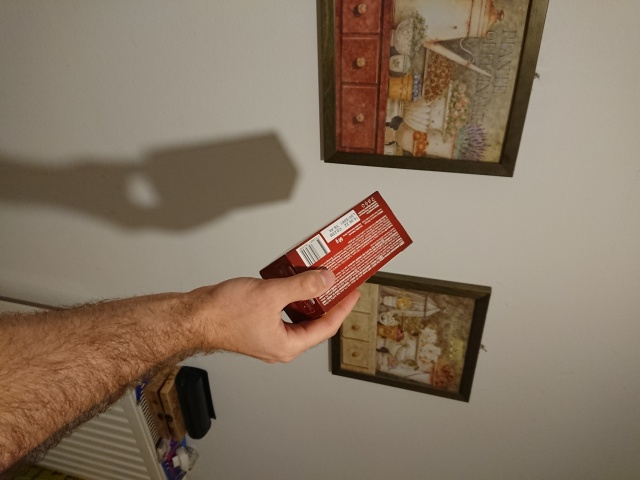Franck Apple Cinnamon Tea 60g: (256, 187, 416, 326)
